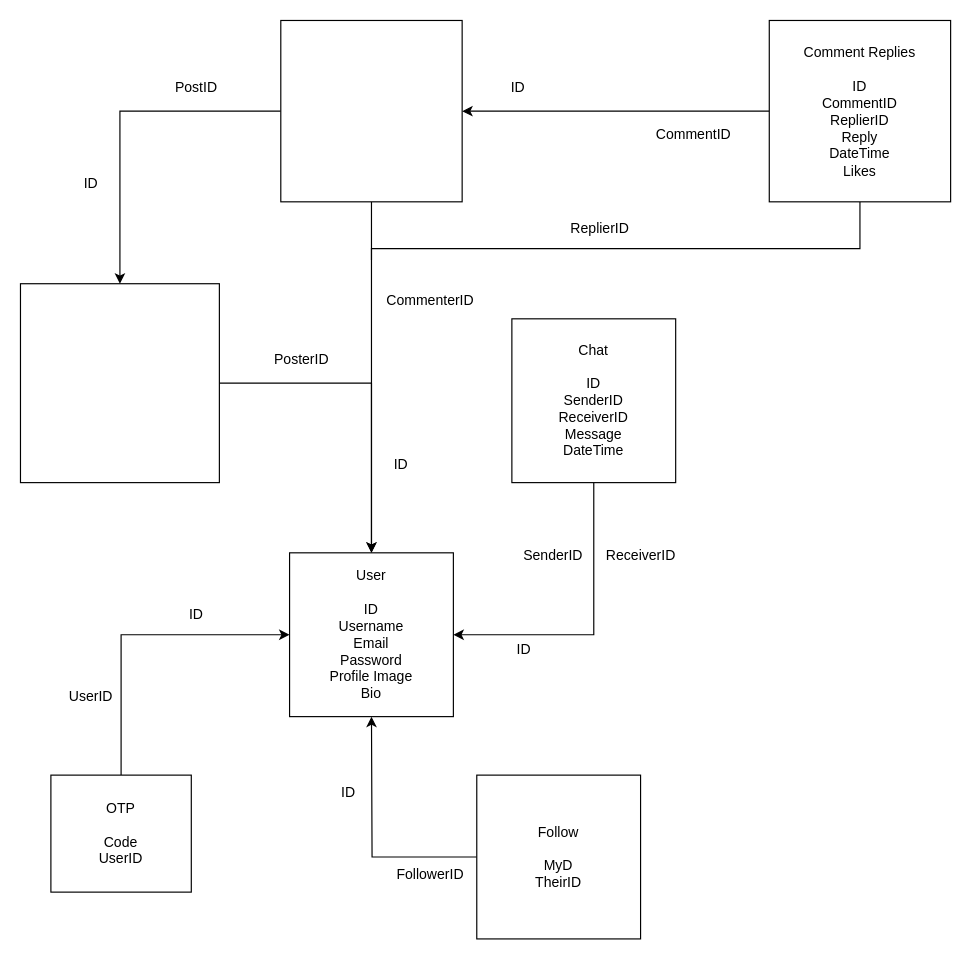
The diagram is 971 pixels wide and 959 high, and some of its shapes have lost their labels. Here are the shapes that lost their labels. From the top down, the box of each, then its label:
(280, 19, 462, 202): Post Comments ID CommenterID PostID Comment DateTime Likes
(19, 283, 219, 483): Post ID Title Image URL Description PosterID DateTime Likes
